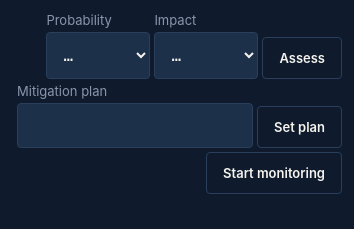
RiskWorkflowActions — set mitigation plan › shows the action-returned error message when saving the plan fails
Type "Add a secondary supplier" into the field labelled "Mitigation plan". click: {"x": 135, "y": 126}
box: [17,103,253,148]
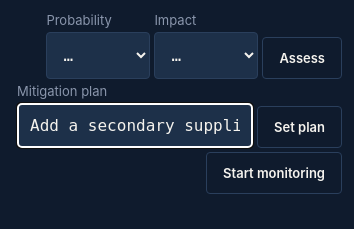
Click the button "Set plan". click: {"x": 300, "y": 127}
box: [257,106,342,148]
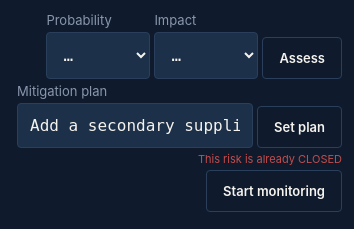
Check: the text "This risk is already CLOSED" is shown, box [198,152,342,166]
